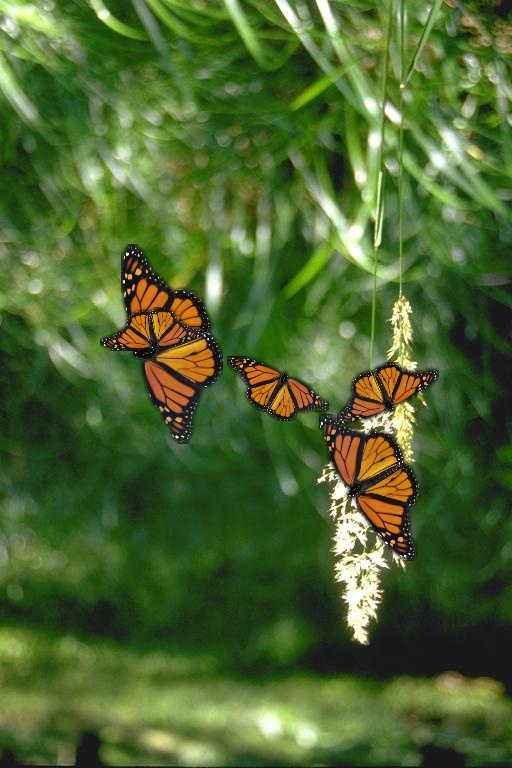danaus_plexippus: (121, 244, 223, 444), (319, 414, 421, 561), (227, 356, 329, 421), (337, 362, 439, 424), (100, 307, 202, 351)
